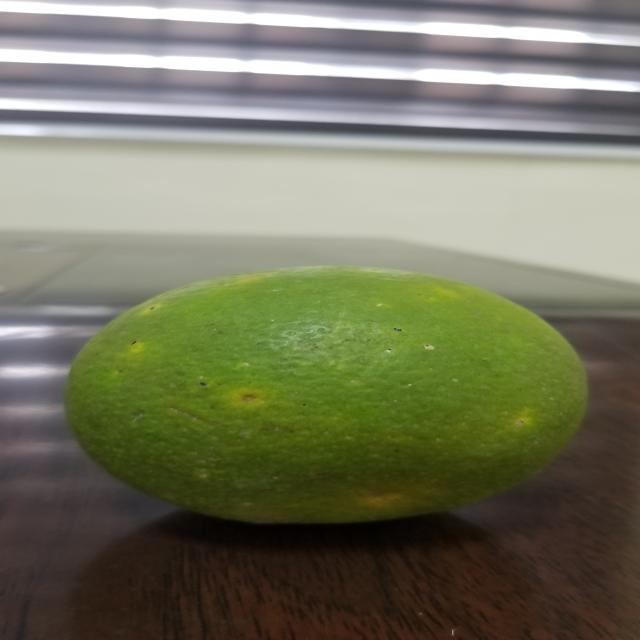Ripe orange: (66, 251, 584, 533)
